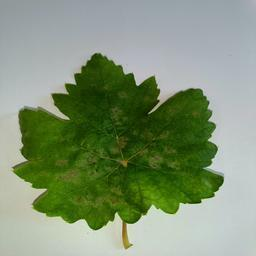Powdery-Mildew: (76, 189, 124, 210), (142, 141, 176, 170), (189, 103, 205, 120), (105, 105, 121, 121), (113, 133, 129, 149)
